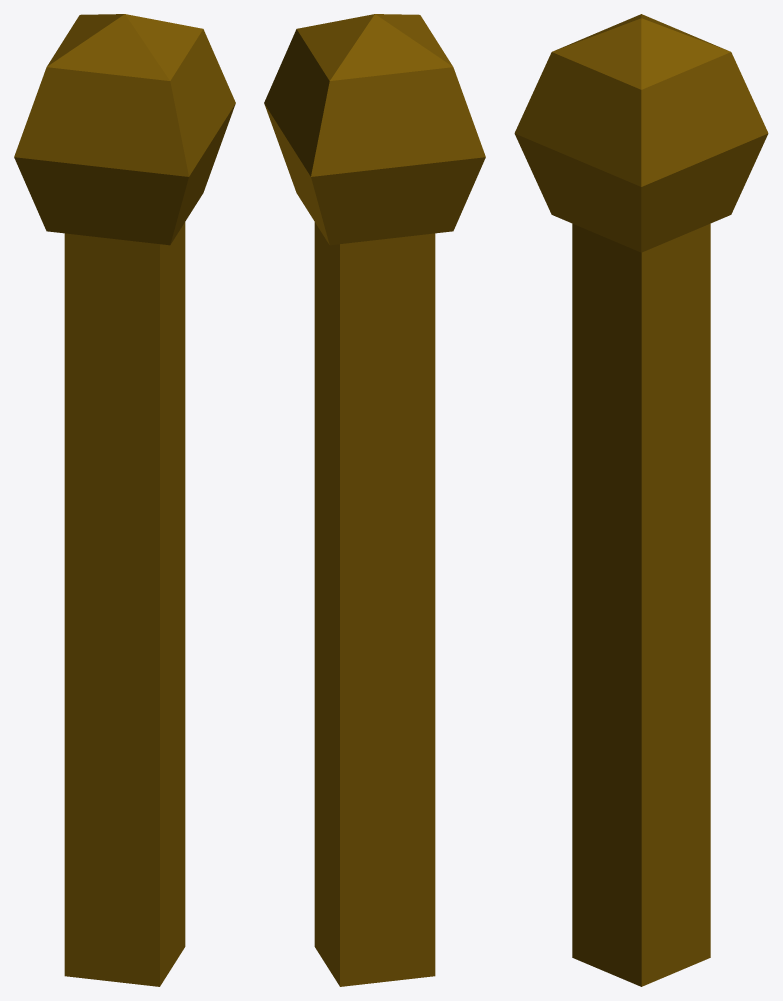
Rendered from GeländerSteher [Braun]_1029.glb.
The picture shows the model from 3 angles, left to right: view 1: azimuth 30°, elevation 25°; view 2: azimuth 150°, elevation 25°; view 3: azimuth 270°, elevation 25°; orthographic projection.
Visible parts, largest first — view 1: pCylinderShape1, pSphereShape1; view 2: pCylinderShape1, pSphereShape1; view 3: pCylinderShape1, pSphereShape1.
Part boxes in pixels (<box>): pCylinderShape1: <box>64,222,185,986</box>; pSphereShape1: <box>14,14,235,245</box>; pCylinderShape1: <box>314,222,435,986</box>; pSphereShape1: <box>264,14,485,245</box>; pCylinderShape1: <box>572,223,710,986</box>; pSphereShape1: <box>514,14,768,252</box>.
Size of the model in its own units: 0.0446 by 0.1821 by 0.0446.
